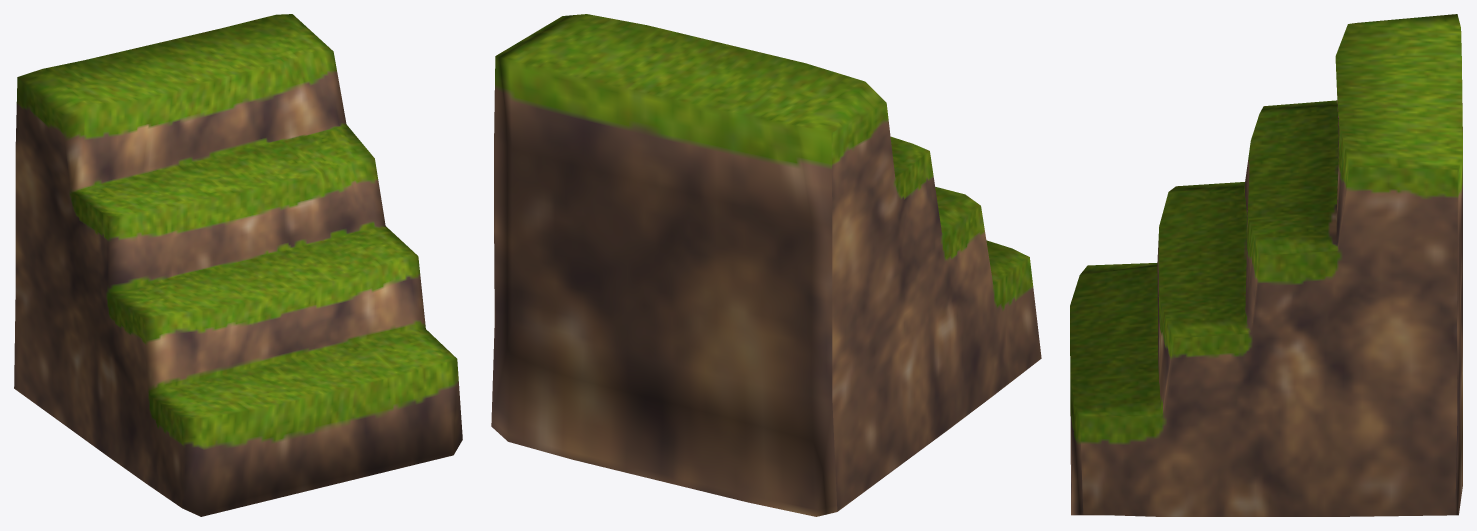
File: EP1_stairs_grass01.fbx
The picture shows the model from 3 angles, left to right: view 1: azimuth 30°, elevation 25°; view 2: azimuth 150°, elevation 25°; view 3: azimuth 270°, elevation 25°; orthographic projection. The views are drawn at different scales.
Visible parts, largest first — view 1: stairs_grass01_geo; view 2: stairs_grass01_geo; view 3: stairs_grass01_geo.
Part boxes in pixels (x1,y1,x2,y2): stairs_grass01_geo: [14, 14, 462, 516]; stairs_grass01_geo: [491, 14, 1041, 516]; stairs_grass01_geo: [1070, 14, 1462, 516].
Size of the model in its own units: 1.03 by 1.11 by 1.1.
